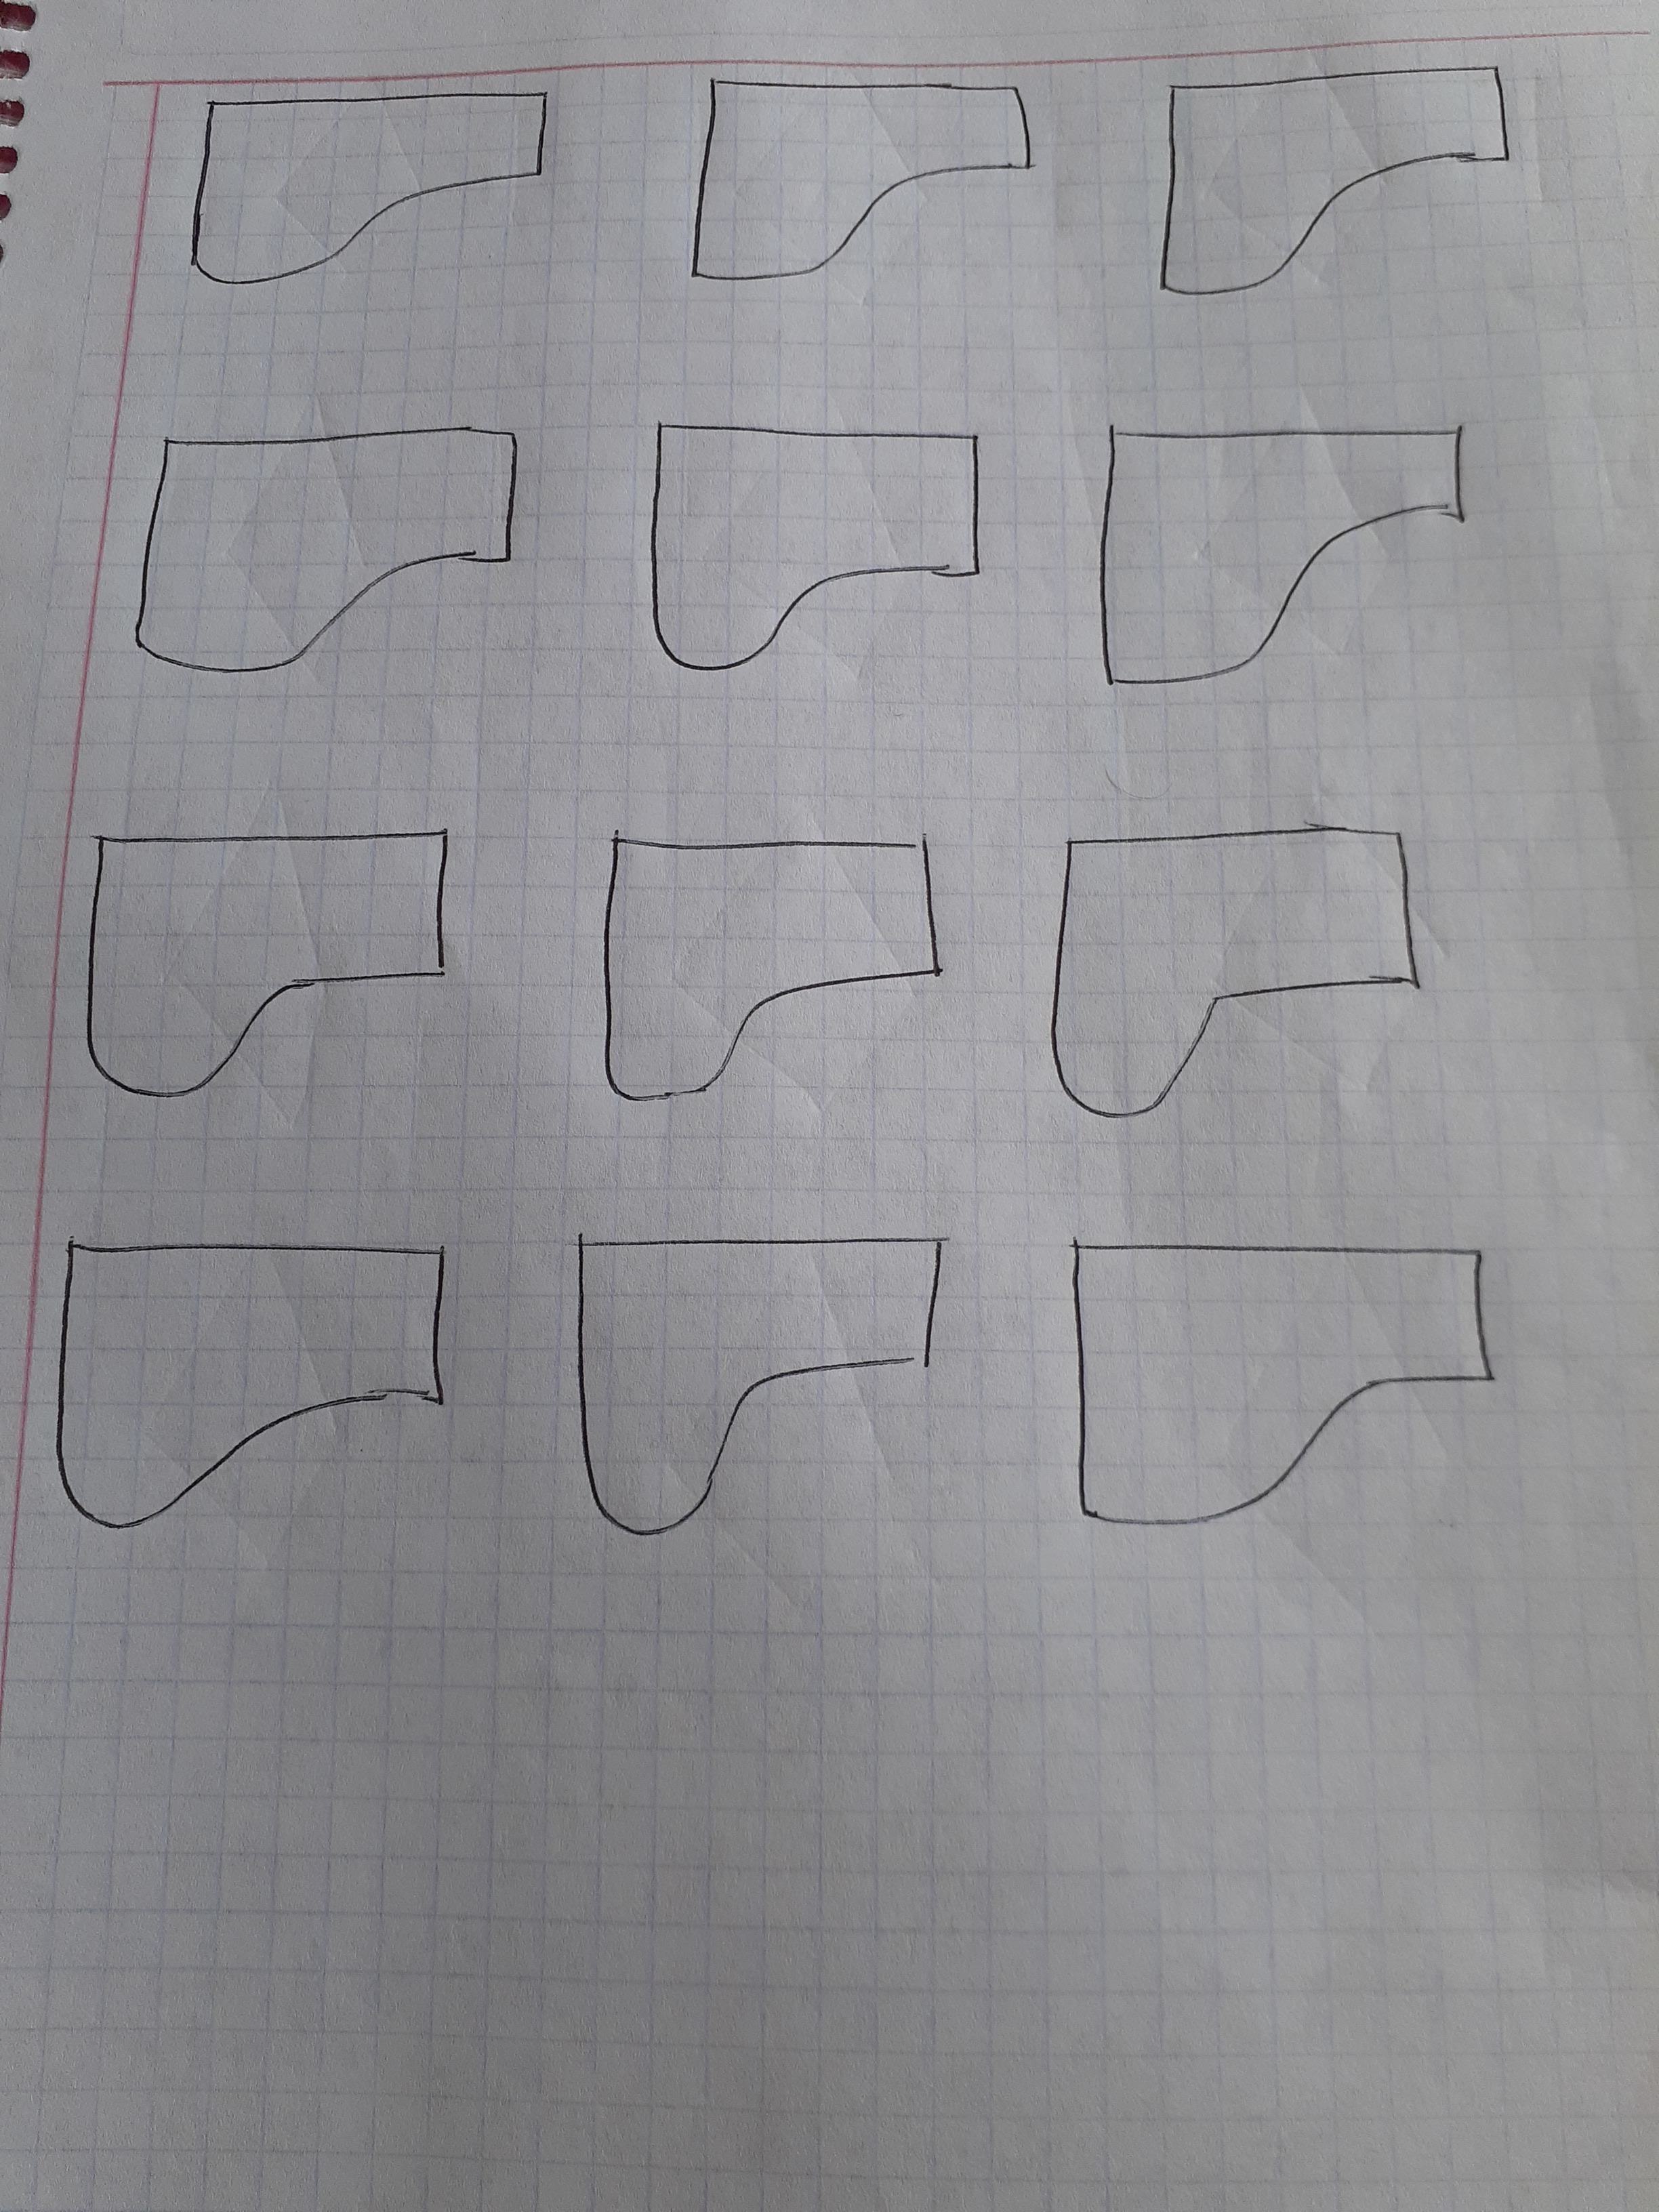print: (1033, 1214, 1528, 1564), (31, 1198, 476, 1557), (549, 1214, 950, 1568), (1040, 819, 1452, 1134), (1068, 401, 1502, 693), (75, 808, 481, 1116), (110, 388, 533, 683), (580, 819, 960, 1120), (678, 38, 1051, 336), (638, 401, 997, 686), (174, 73, 584, 317), (1143, 49, 1525, 307)
